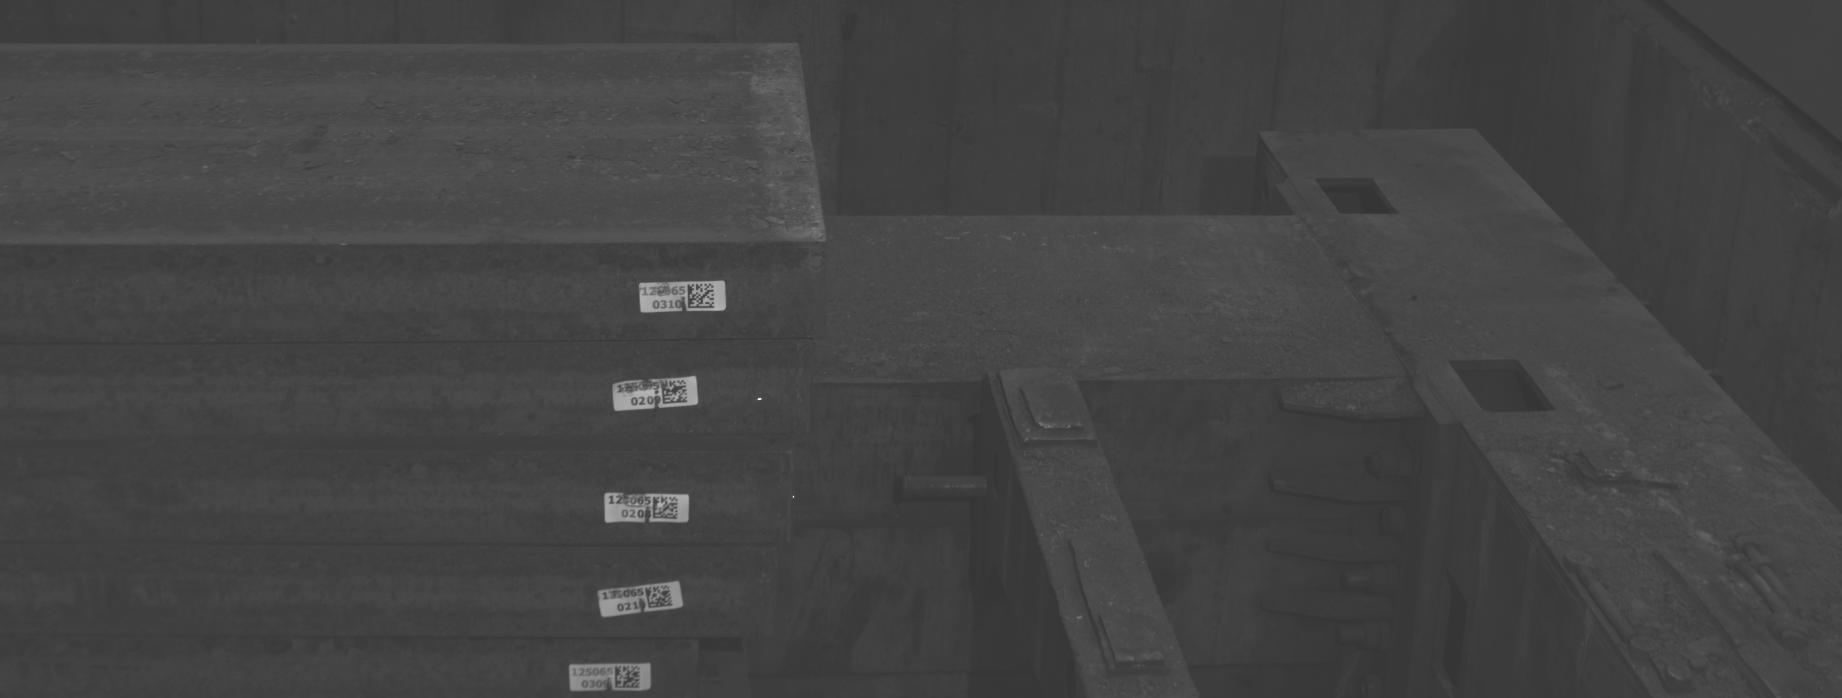data matrix: (644, 584, 675, 613), (652, 495, 681, 523), (687, 282, 717, 310), (660, 378, 690, 407), (616, 665, 644, 691)
